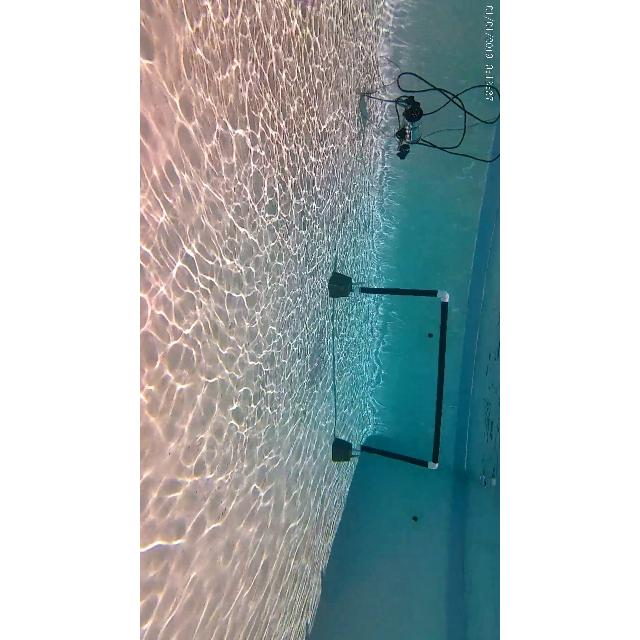prequal gate: (354, 287, 448, 469)
prequal gate leg l: (329, 272, 449, 306)
prequal gate leg r: (329, 426, 443, 476)
